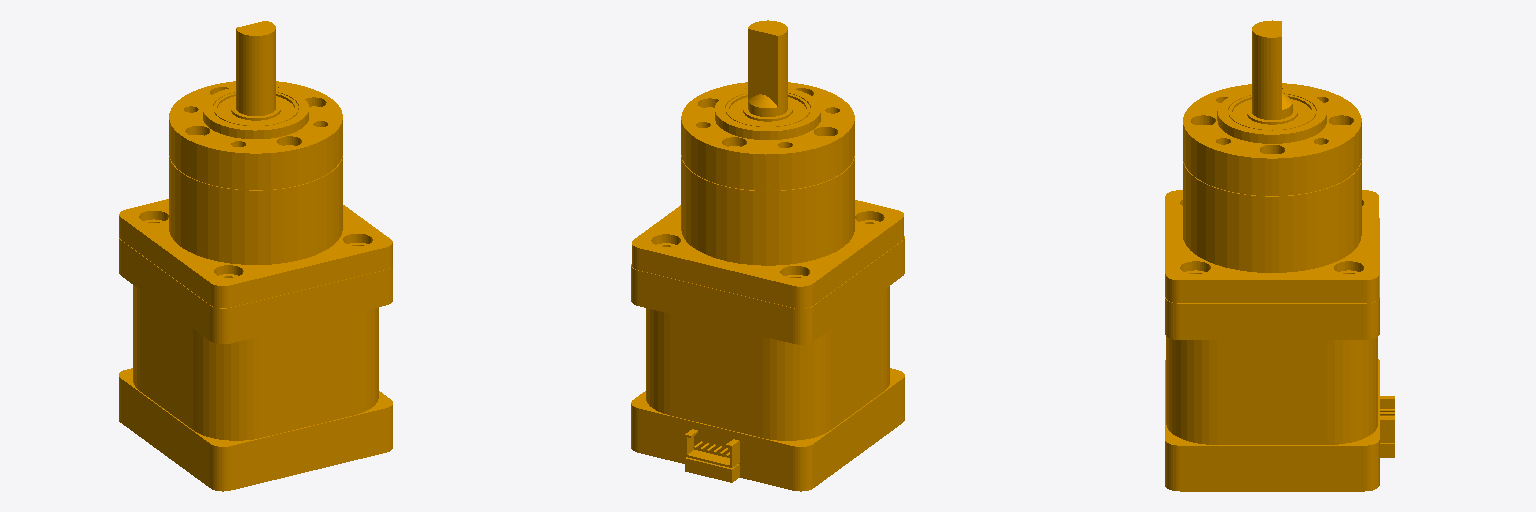
The robot description file, URDF, robot "motor_2_L0.93_T0.92":
<?xml version="1.0" encoding="utf-8"?>
<robot name="motor_2_L0.93_T0.92">
  <link name="motor_2_L0.93_T0.92Link">
    <contact>
      <lateral_friction value="1"/>
    </contact>
    <inertial>
      <origin rpy="0 0 0" xyz="0 0 0"/>
      <mass value="0.0"/>
      <inertia ixx="0" ixy="0" ixz="0" iyy="0" iyz="0" izz="0"/>
    </inertial>
    <visual>
      <origin rpy="0 0 0" xyz="0 0 0"/>
      <geometry>
        <mesh filename="generated_stl/motor/motor_2/motor_2_L0.93_T0.92/motor_2_L0.93_T0.92.stl" scale="0.01 0.01 0.01"/>
      </geometry>
    </visual>
    <collision>
      <origin rpy="0 0 0" xyz="0 0 0"/>
      <geometry>
        <mesh filename="generated_stl/motor/motor_2/motor_2_L0.93_T0.92/motor_2_L0.93_T0.92.stl" scale="0.01 0.01 0.01"/>
      </geometry>
    </collision>
  </link>
</robot>

--- What the picture shows (computed from the rendered views, not written in the file) ---
Views: 3 orthographic renders of the robot side by side, from view 1: azimuth 30°, elevation 25°; view 2: azimuth 150°, elevation 25°; view 3: azimuth 270°, elevation 25°.
Robot: motor_2_L0.93_T0.92 — 1 links, 0 joints (none); root link motor_2_L0.93_T0.92Link; default pose: all joints at 0.
Visible links, largest first — view 1: motor_2_L0.93_T0.92Link; view 2: motor_2_L0.93_T0.92Link; view 3: motor_2_L0.93_T0.92Link.
Link boxes in pixels (x1,y1,x2,y2): motor_2_L0.93_T0.92Link: [119, 21, 392, 491]; motor_2_L0.93_T0.92Link: [631, 20, 904, 491]; motor_2_L0.93_T0.92Link: [1165, 20, 1394, 491].
Size in the robot's own frame: 0.0314 by 0.0336 by 0.0672 metres.
Meshes: 1 distinct files referenced, 1 mesh visuals loaded (1 binary STL).